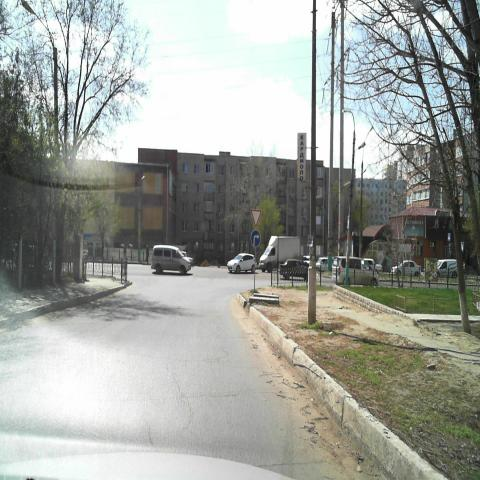4_1_2: (250, 228, 262, 248)
